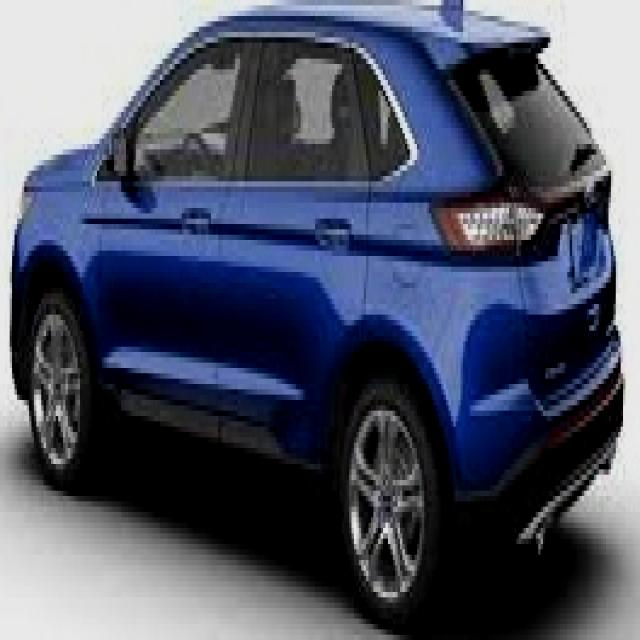blue: (9, 0, 623, 629)
